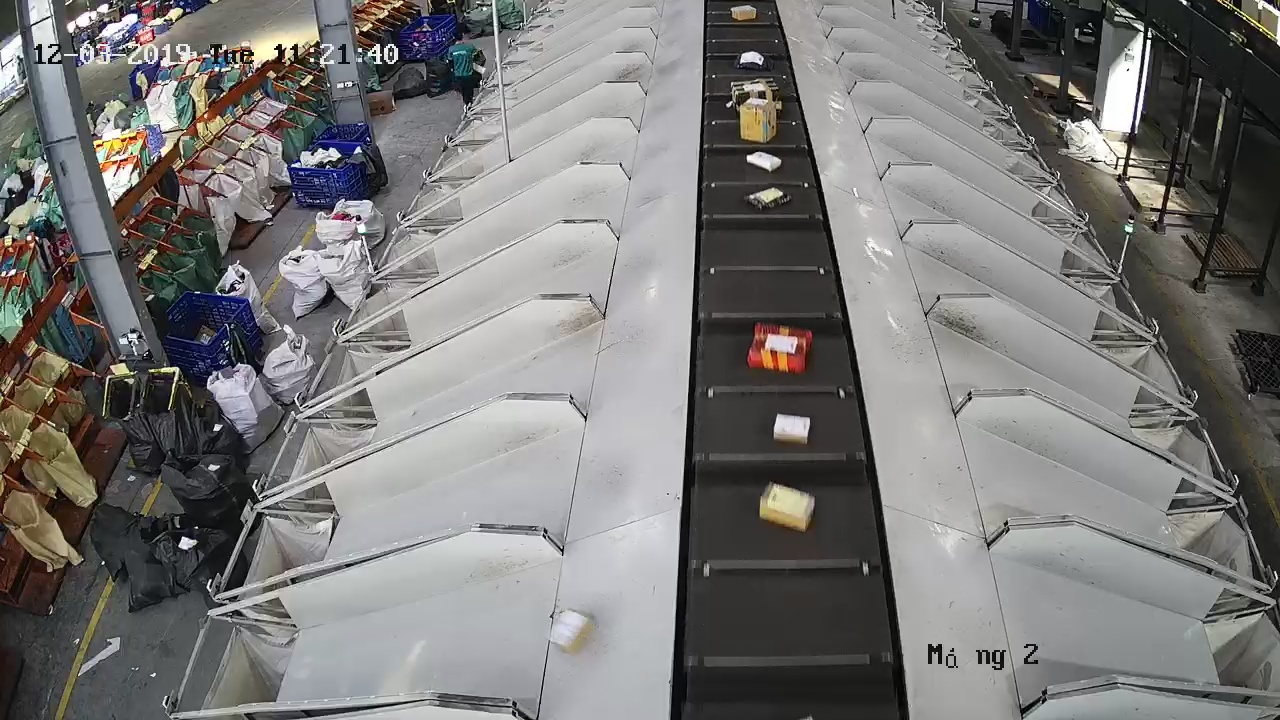parcel: (745, 320, 815, 376), (757, 479, 817, 536), (545, 604, 597, 658), (743, 185, 793, 213), (771, 412, 812, 446), (744, 150, 783, 174)
